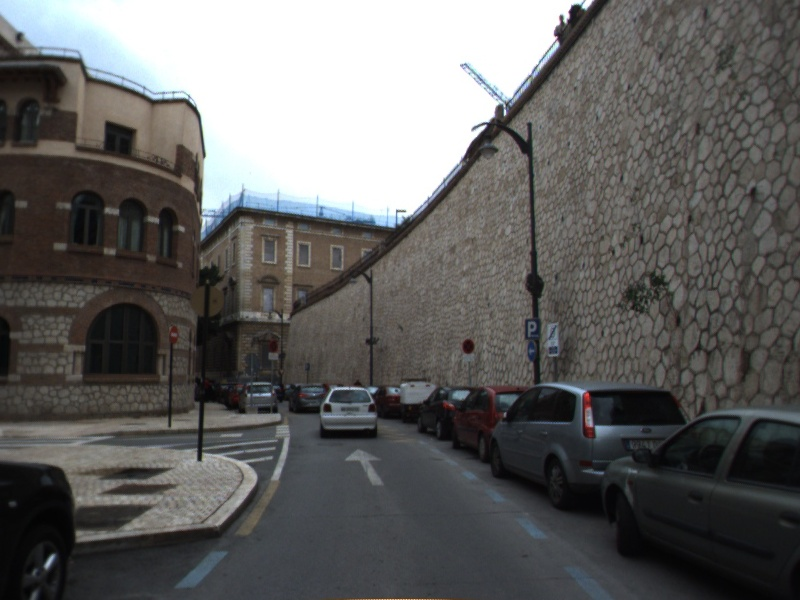STRAIGHT: (343, 446, 386, 487)
